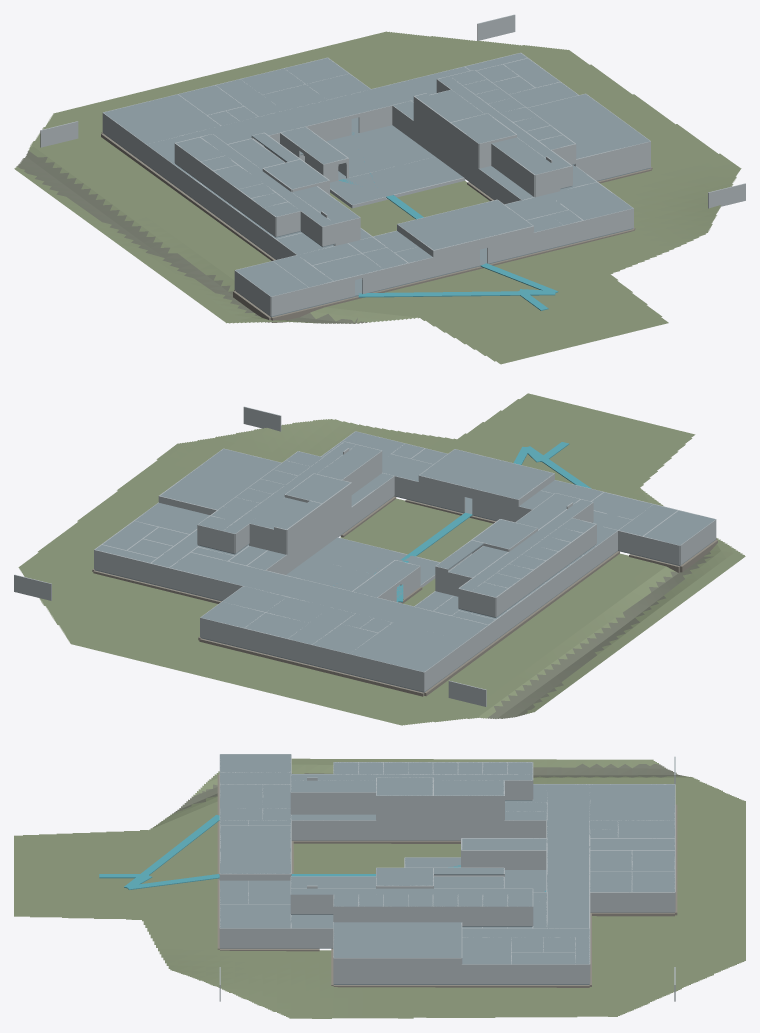
File: open-circulation.glb
3 views of the same model, one above another, from view 1: azimuth 30°, elevation 25°; view 2: azimuth 150°, elevation 25°; view 3: azimuth 270°, elevation 25° (orthographic).
Visible parts, largest first — view 1: Saved editor macroterrain PRISON, Ceiling cap cross, Ceiling cap chapel, Ceiling cap sally, Ceiling cap dining, Ceiling cap laundry, Ceiling cap plant, Wall chapel S, Ceiling cap guard-link, Wall b-rear-bypass W, Ceiling cap a-upper-gallery, Ceiling cap b-upper-gallery (+37 smaller); view 2: Saved editor macroterrain PRISON, Ceiling cap cross, Ceiling cap chapel, Ceiling cap sally, Ceiling cap dining, Ceiling cap laundry, Wall b-rear-bypass W, Wall dining N, Ceiling cap plant, Ceiling cap a-upper-gallery, Ceiling cap b-upper-gallery, Wall b-dayhall W (+36 smaller); view 3: Saved editor macroterrain PRISON, Ceiling cap cross, Ceiling cap chapel, Ceiling cap sally, Wall chapel E, Ceiling cap dining, Wall a-rear-bypass E, Wall a-dayhall E, Ceiling cap guard-link, Wall a-front-aisle E, Wall a-upper-stair E, Ceiling cap b-upper-gallery (+45 smaller).
Boxes of the visible parts, x1=… form: Saved editor macroterrain PRISON: x1=14, y1=31, x2=741, y2=364; Ceiling cap cross: x1=146, y1=71, x2=451, y2=159; Ceiling cap chapel: x1=527, y1=94, x2=649, y2=158; Ceiling cap sally: x1=398, y1=200, x2=532, y2=249; Ceiling cap dining: x1=103, y1=94, x2=219, y2=144; Ceiling cap laundry: x1=330, y1=156, x2=463, y2=204; Ceiling cap plant: x1=326, y1=125, x2=434, y2=177; Wall chapel S: x1=575, y1=141, x2=650, y2=180; Ceiling cap guard-link: x1=548, y1=182, x2=632, y2=220; Wall b-rear-bypass W: x1=413, y1=96, x2=450, y2=166; Ceiling cap a-upper-gallery: x1=201, y1=134, x2=334, y2=226; Ceiling cap b-upper-gallery: x1=437, y1=76, x2=571, y2=168; Saved editor macroterrain PRISON: x1=18, y1=393, x2=745, y2=725; Ceiling cap cross: x1=170, y1=552, x2=487, y2=640; Ceiling cap chapel: x1=160, y1=449, x2=280, y2=509; Ceiling cap sally: x1=419, y1=449, x2=553, y2=499; Ceiling cap dining: x1=350, y1=622, x2=466, y2=671; Ceiling cap laundry: x1=309, y1=537, x2=439, y2=584; Wall b-rear-bypass W: x1=286, y1=503, x2=322, y2=573; Wall dining N: x1=349, y1=654, x2=424, y2=691; Ceiling cap plant: x1=286, y1=558, x2=374, y2=591; Ceiling cap a-upper-gallery: x1=459, y1=499, x2=592, y2=591; Ceiling cap b-upper-gallery: x1=223, y1=442, x2=356, y2=533; Wall b-dayhall W: x1=322, y1=482, x2=351, y2=547; Saved editor macroterrain PRISON: x1=14, y1=758, x2=745, y2=1018; Ceiling cap cross: x1=547, y1=784, x2=589, y2=928; Ceiling cap chapel: x1=333, y1=922, x2=461, y2=957; Ceiling cap sally: x1=220, y1=826, x2=290, y2=873; Wall chapel E: x1=333, y1=958, x2=461, y2=983; Ceiling cap dining: x1=589, y1=784, x2=674, y2=820; Wall a-rear-bypass E: x1=433, y1=795, x2=504, y2=839; Wall a-dayhall E: x1=376, y1=795, x2=433, y2=839; Ceiling cap guard-link: x1=220, y1=904, x2=290, y2=928; Wall a-front-aisle E: x1=291, y1=820, x2=376, y2=839; Wall a-upper-stair E: x1=291, y1=792, x2=375, y2=811; Ceiling cap b-upper-gallery: x1=291, y1=888, x2=532, y2=894.
Bounding box in the file's own units: 87 × 9.96 × 103.
